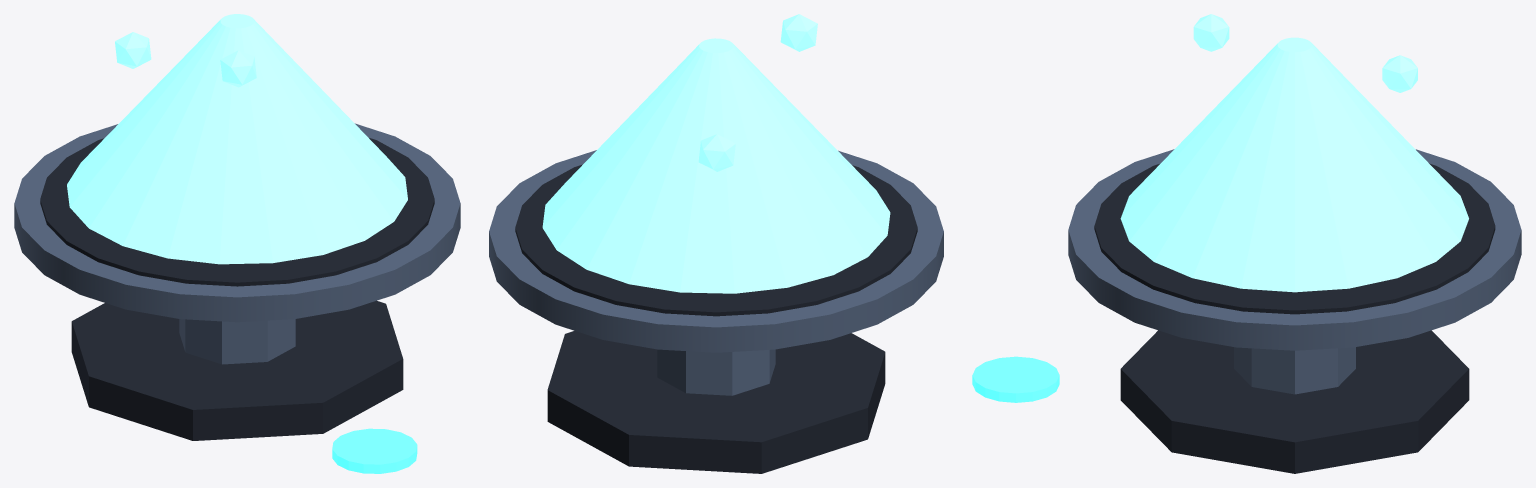
Rendered from mod_mesa_nav.fbx.
3 renders of one model, left to right at view 1: azimuth 30°, elevation 25°; view 2: azimuth 150°, elevation 25°; view 3: azimuth 270°, elevation 25°, orthographic.
Parts seen in each view (by area): view 1: Mesa_navegacion, Mesa_navegacion_Neon, Mesa_navegacion_Marca; view 2: Mesa_navegacion, Mesa_navegacion_Neon; view 3: Mesa_navegacion, Mesa_navegacion_Neon, Mesa_navegacion_Marca.
Boxes of the visible parts, <box> form: Mesa_navegacion: <box>14,123,460,440</box>; Mesa_navegacion_Neon: <box>67,14,407,264</box>; Mesa_navegacion_Marca: <box>332,428,417,473</box>; Mesa_navegacion: <box>489,150,943,473</box>; Mesa_navegacion_Neon: <box>542,14,890,293</box>; Mesa_navegacion: <box>1068,149,1521,473</box>; Mesa_navegacion_Neon: <box>1120,14,1468,292</box>; Mesa_navegacion_Marca: <box>972,356,1059,402</box>.
Bounding box in the file's own units: 0.728 × 0.6748 × 0.882.
